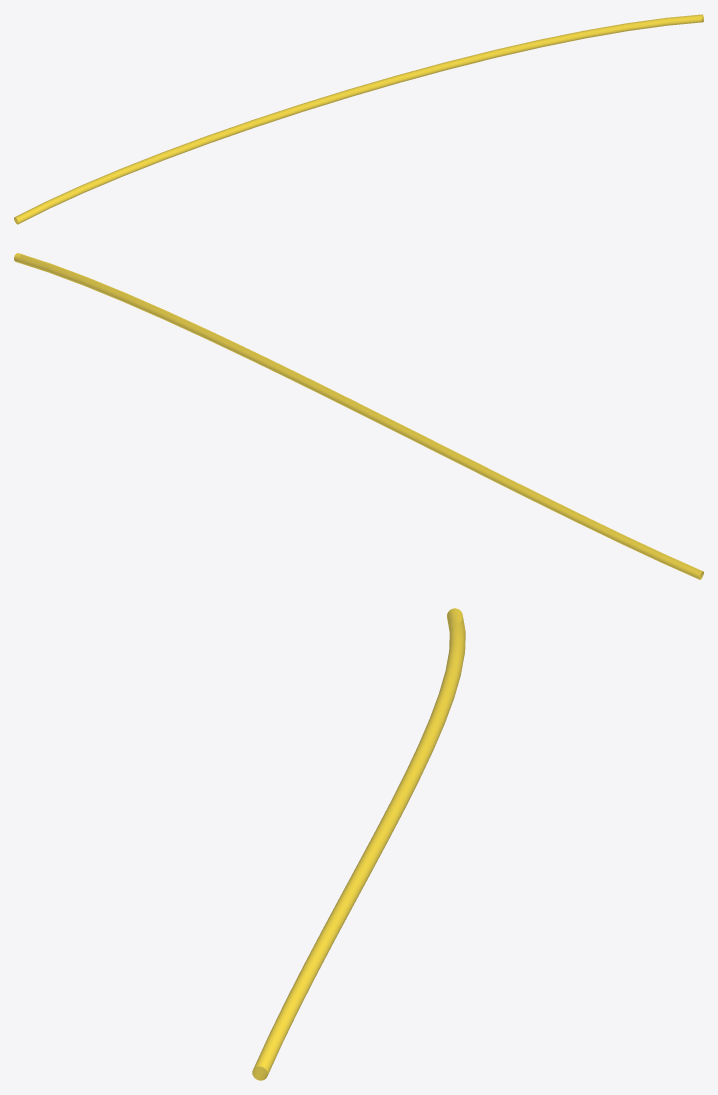
Rendered from Event_27938768_track_64.fbx.
3 views of the same model, one above another, from view 1: azimuth 30°, elevation 25°; view 2: azimuth 150°, elevation 25°; view 3: azimuth 270°, elevation 25° (orthographic). The views are drawn at different scales.
Visible parts, largest first — view 1: Model; view 2: Model; view 3: Model.
Part boxes in pixels (left/top/right/bottom): Model: left=14, top=14, right=703, bottom=224; Model: left=14, top=253, right=703, bottom=579; Model: left=252, top=608, right=465, bottom=1080.
Bounding box in the file's own units: 3.69 × 0.5039 × 0.5336.
